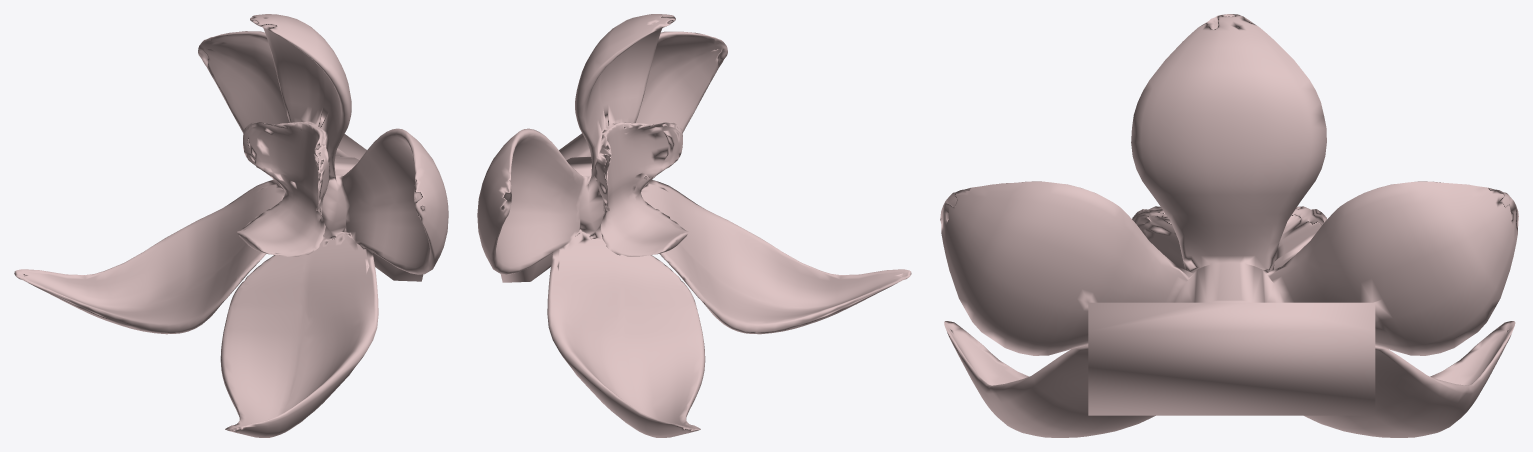
The picture shows the model from 3 angles, left to right: view 1: azimuth 30°, elevation 25°; view 2: azimuth 150°, elevation 25°; view 3: azimuth 270°, elevation 25°; orthographic projection. The views are drawn at different scales.
Parts seen in each view (by area): view 1: 111b6d31; view 2: 111b6d31; view 3: 111b6d31.
Boxes of the visible parts, left/top/right/bottom form: 111b6d31: left=14, top=14, right=448, bottom=437; 111b6d31: left=477, top=14, right=911, bottom=437; 111b6d31: left=940, top=14, right=1518, bottom=437.
Size of the model in its own units: 0.072 by 0.0879 by 0.1026.
